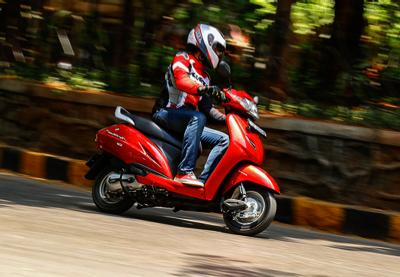With Helmet: (179, 22, 236, 69)
